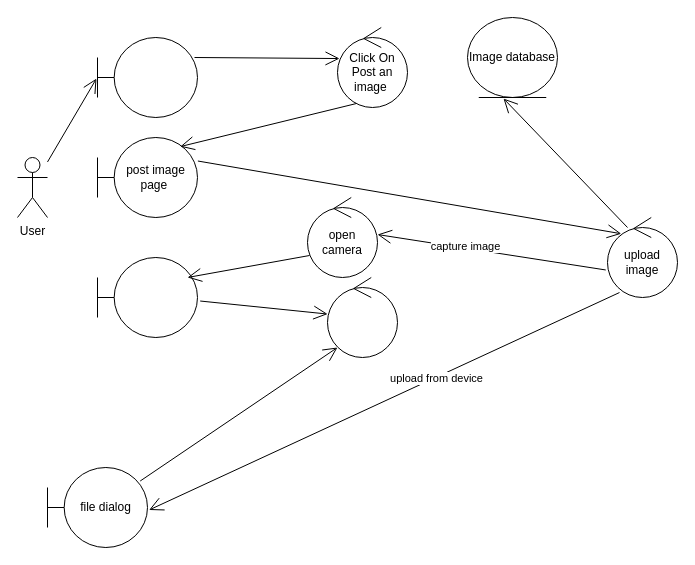
Image size: 695x565. Some labels were removed from this diagram. The shapes that lost their labels are listed below. From the top down, each one's centre as x and y in pixels, then its label:
At (x=147, y=77): "user page".
At (x=147, y=297): "camera".
At (x=362, y=317): "confirm and post image".
